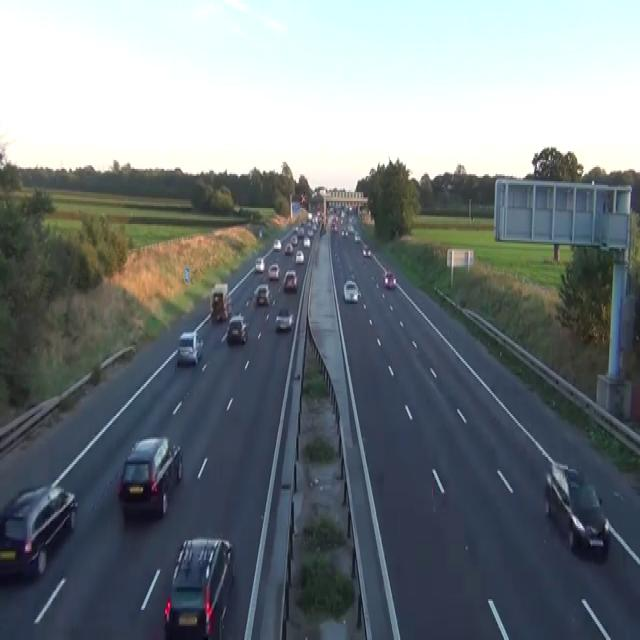Car: (0, 483, 78, 578), (163, 537, 234, 638), (544, 460, 609, 554), (117, 436, 183, 518), (177, 329, 203, 364), (227, 313, 248, 343), (275, 306, 294, 330), (253, 282, 270, 306), (343, 279, 359, 302), (283, 268, 297, 290), (383, 270, 396, 288), (268, 263, 279, 279), (254, 256, 264, 272), (294, 249, 304, 263), (362, 244, 371, 256), (284, 242, 293, 254), (273, 238, 281, 251), (300, 192, 306, 204), (303, 237, 310, 247), (290, 235, 297, 245), (297, 226, 304, 236), (354, 231, 360, 242), (347, 224, 354, 233), (331, 221, 337, 231), (307, 228, 314, 236), (341, 228, 347, 236), (258, 228, 262, 238), (307, 212, 312, 220)
Truck: (209, 282, 231, 322)
